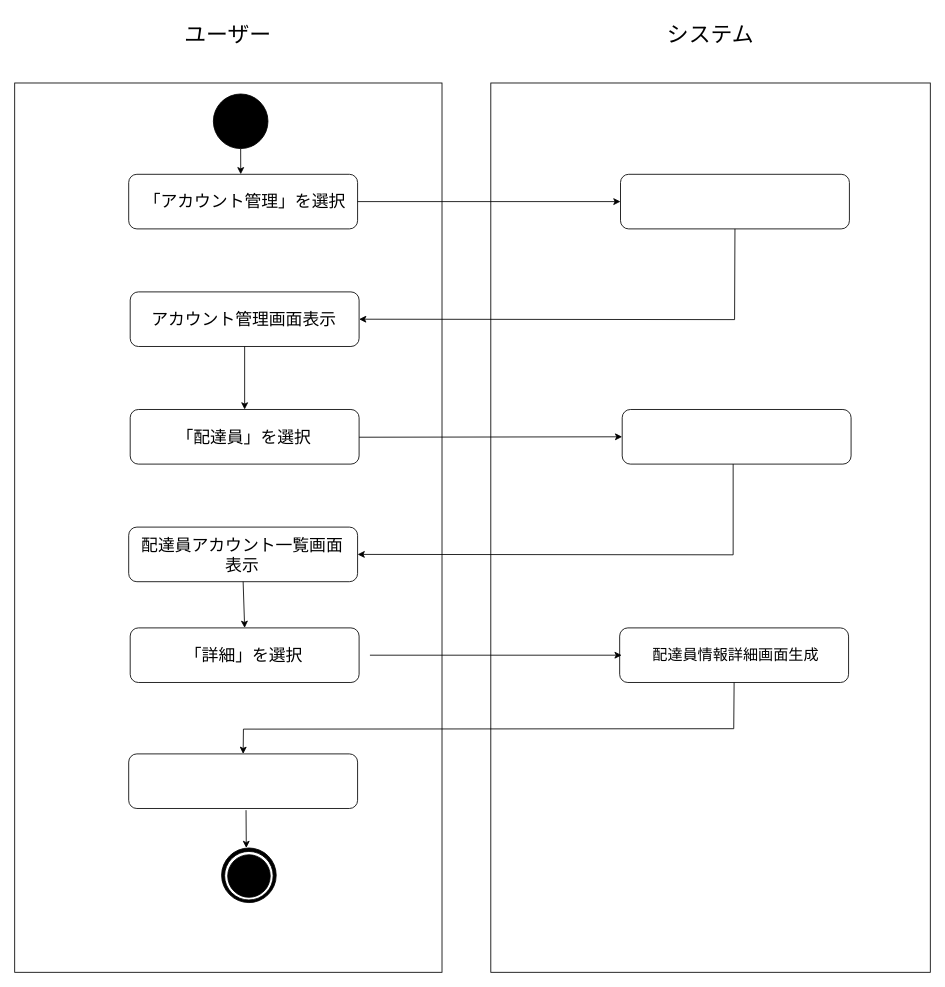
Some shapes in this 945 by 987 pixel diagram are drawn without their labels. Here are the shapes that lost their labels. From the top down, the box of each, then its label:
(620, 173, 849, 229): アカウント管理画面生成
(621, 409, 851, 464): 配達員アカウント 一覧画面生成
(128, 753, 358, 808): 配達員情報詳細画面表示
